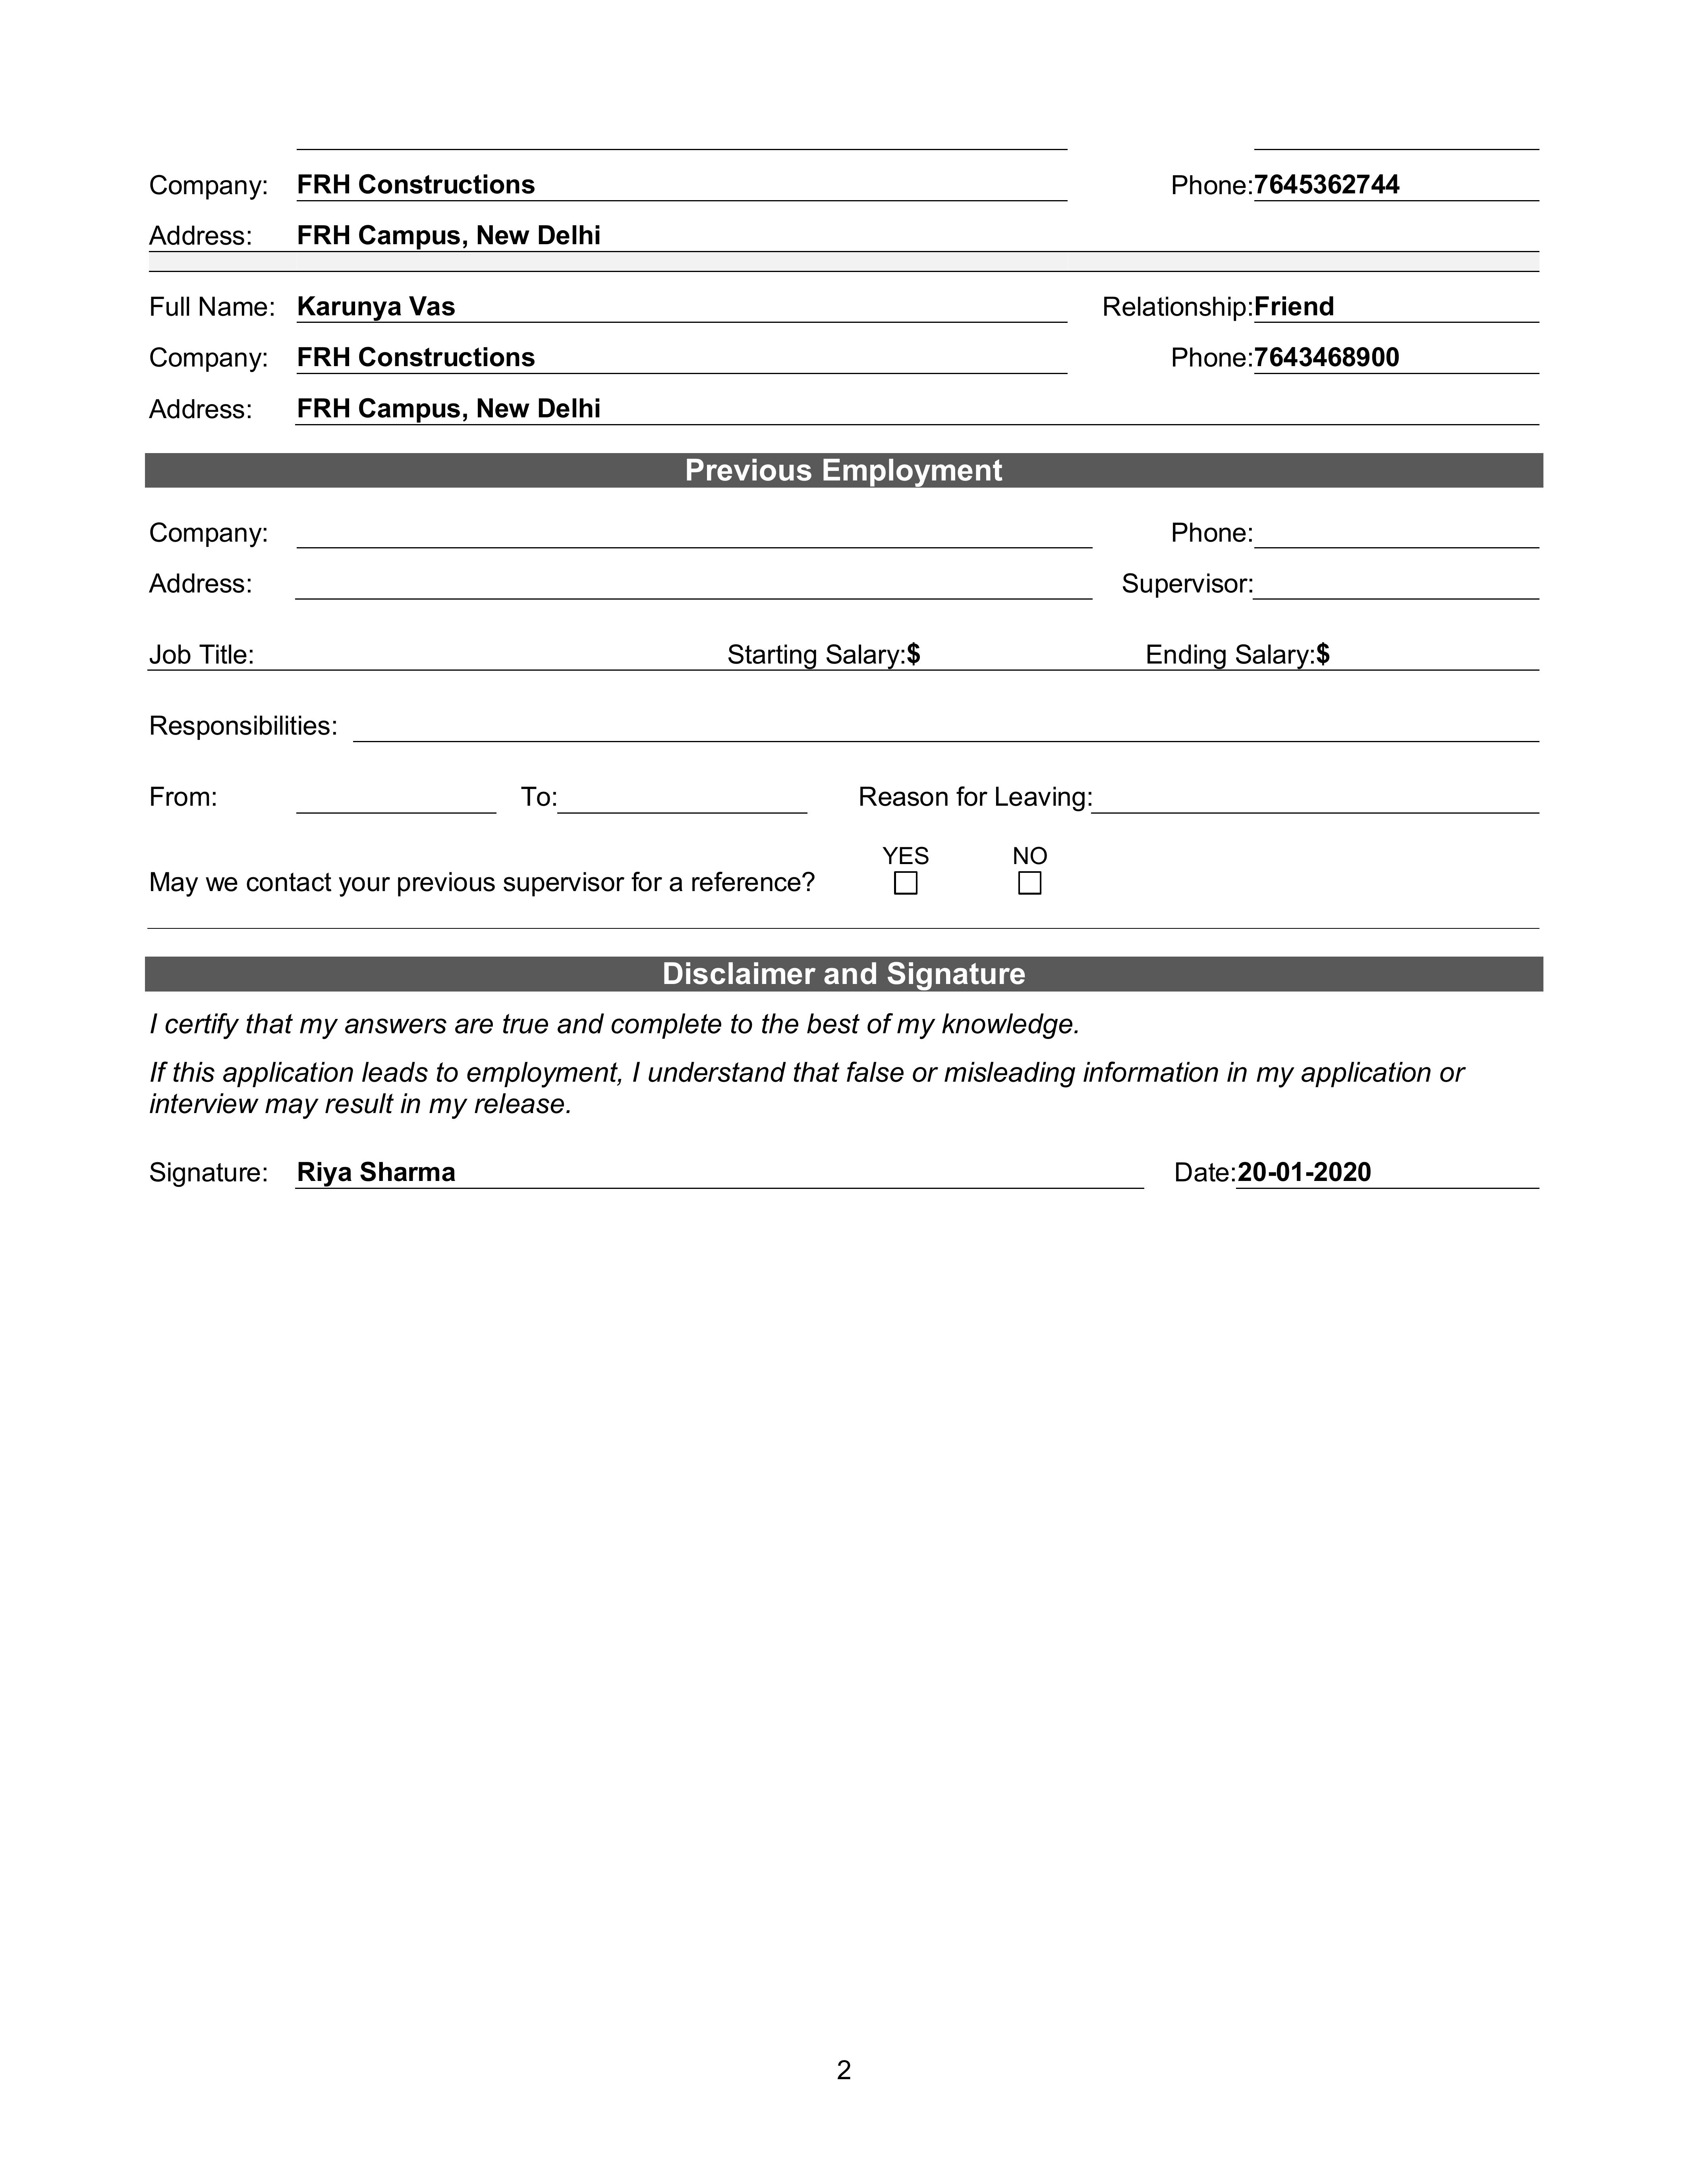table: (149, 450, 1543, 909), (144, 961, 1546, 1189)
